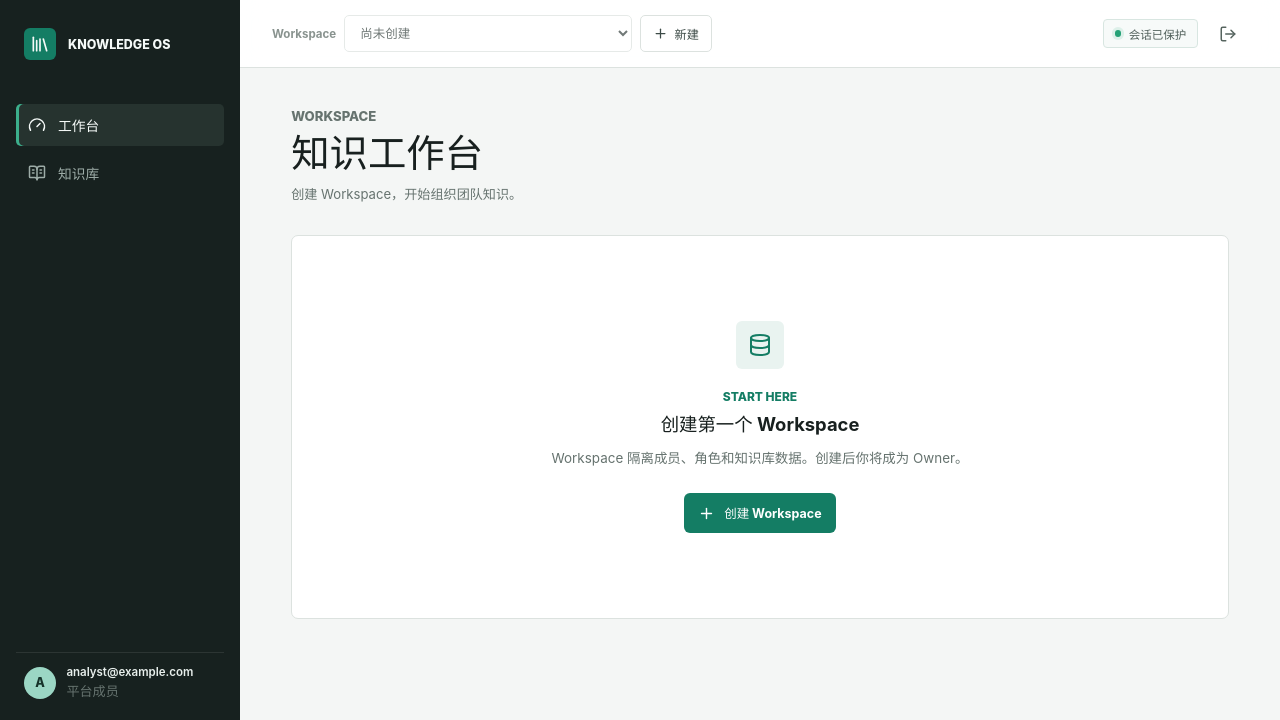
Test: authentication workspace › restores a cookie-backed session and logs out
expect the heading "知识工作台" is shown: met, box [291,130,483,176]
Click the button named "退出登录" at (1228, 34), box [1208,14,1248,54]
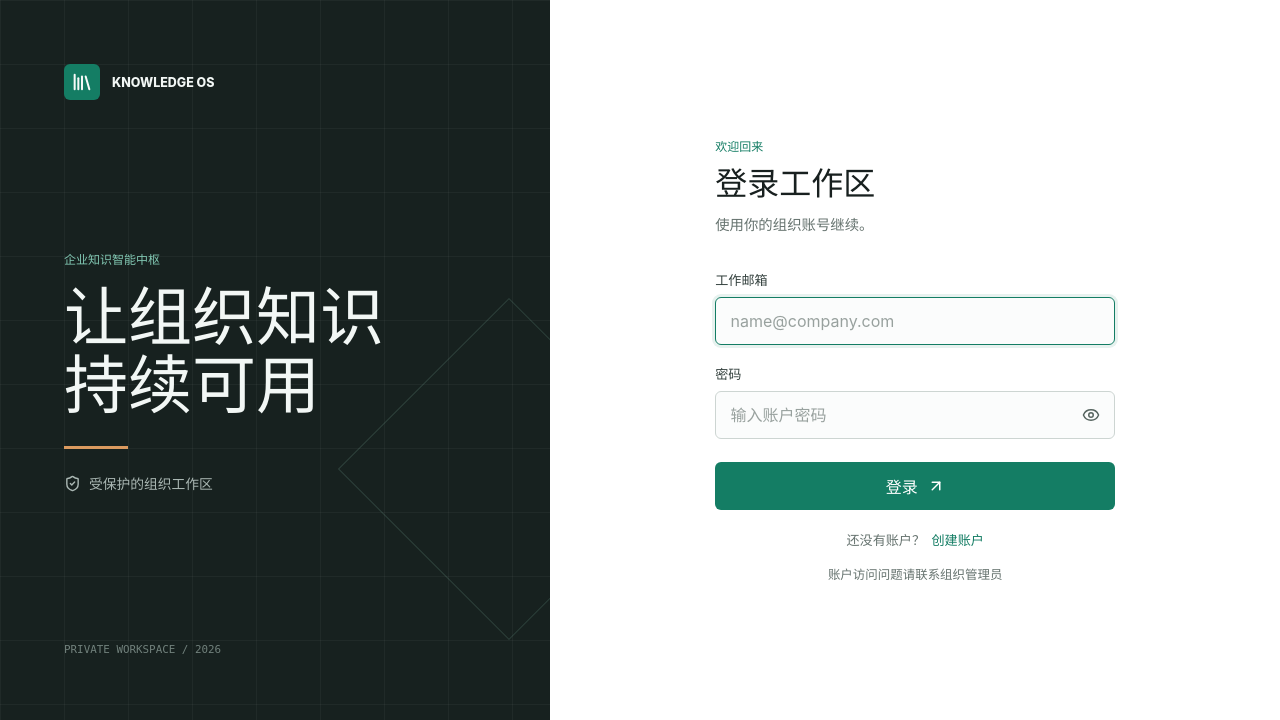
expect the field labelled "工作邮箱" is shown: met, box [715,296,1115,344]
